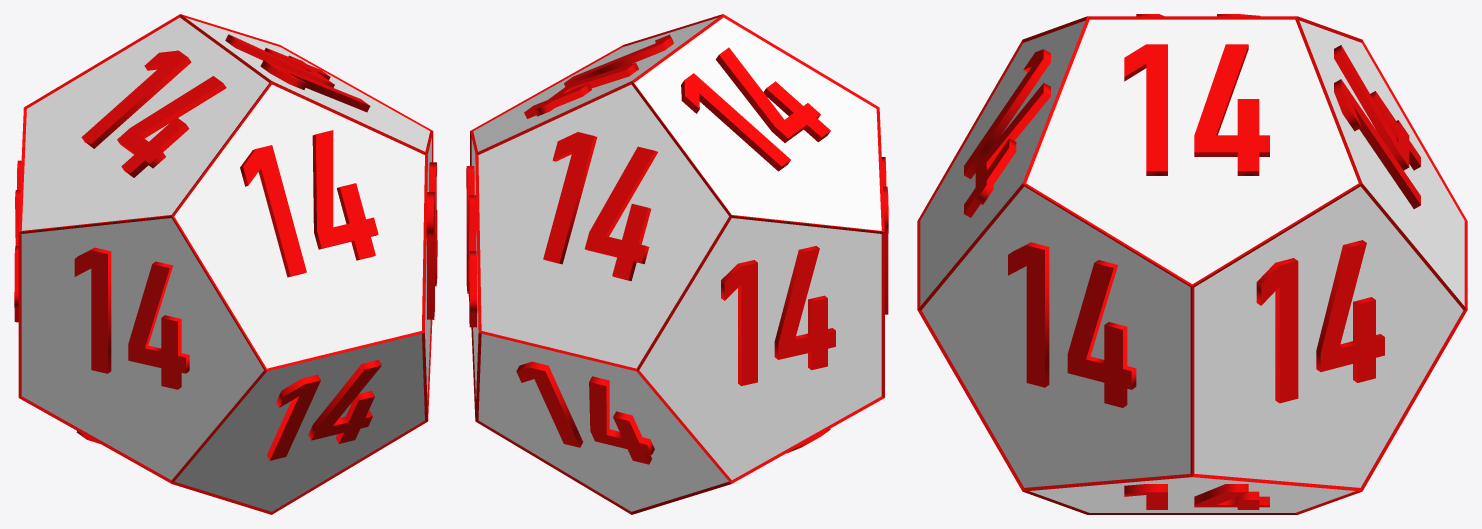
File: dodecahedron_sign-14.glb
The picture shows the model from 3 angles, left to right: view 1: azimuth 30°, elevation 25°; view 2: azimuth 150°, elevation 25°; view 3: azimuth 270°, elevation 25°; orthographic projection. The views are drawn at different scales.
Parts seen in each view (by area): view 1: Dodecahedron_Solid, Dodecahedron_Wire, Text20_5, Text20_11, Text20_7, Text20_10, Text20_2, Text20_6, Text20_8; view 2: Dodecahedron_Solid, Dodecahedron_Wire, Text20_0, Text20_8, Text20_7, Text20_3, Text20_2, Text20_1, Text20_11; view 3: Dodecahedron_Solid, Dodecahedron_Wire, Text20_1, Text20_6, Text20_2, Text20_0, Text20_5, Text20_4.
Boxes of the visible parts, x1,y1,x2,y2 form: Dodecahedron_Solid: [21, 17, 431, 511]; Dodecahedron_Wire: [18, 14, 433, 514]; Text20_5: [240, 130, 378, 277]; Text20_11: [74, 247, 189, 389]; Text20_7: [81, 50, 226, 177]; Text20_10: [267, 360, 381, 460]; Text20_2: [225, 34, 370, 112]; Text20_6: [426, 162, 437, 319]; Text20_8: [14, 160, 21, 322]; Dodecahedron_Solid: [471, 17, 881, 511]; Dodecahedron_Wire: [470, 14, 884, 514]; Text20_0: [543, 132, 657, 281]; Text20_8: [721, 246, 835, 385]; Text20_7: [681, 47, 830, 171]; Text20_3: [516, 361, 654, 464]; Text20_2: [524, 34, 673, 118]; Text20_1: [466, 166, 477, 327]; Text20_11: [881, 157, 888, 314]; Dodecahedron_Solid: [920, 19, 1464, 512]; Dodecahedron_Wire: [917, 16, 1467, 514]; Text20_1: [1256, 240, 1384, 403]; Text20_6: [1008, 242, 1136, 407]; Text20_2: [1124, 44, 1269, 175]; Text20_0: [1334, 45, 1420, 208]; Text20_5: [964, 49, 1050, 217]; Text20_4: [1124, 484, 1269, 509].
Bounding box in the file's own units: 3.26 × 3.26 × 3.26.
